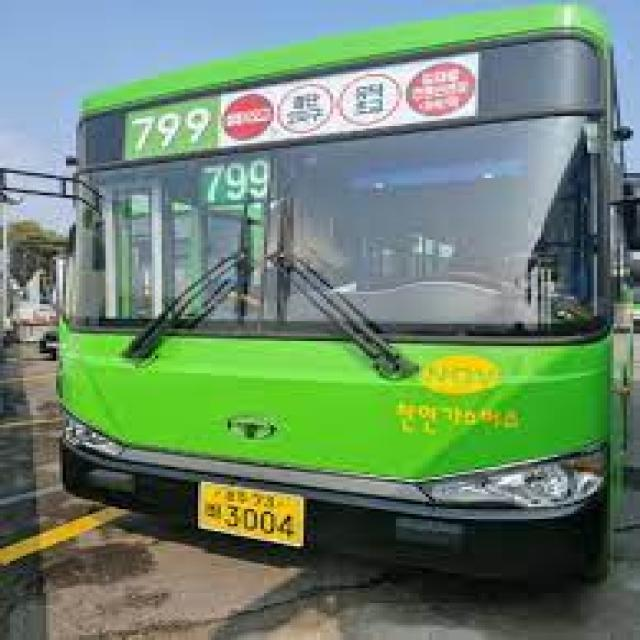bus-number: (128, 107, 214, 153)
